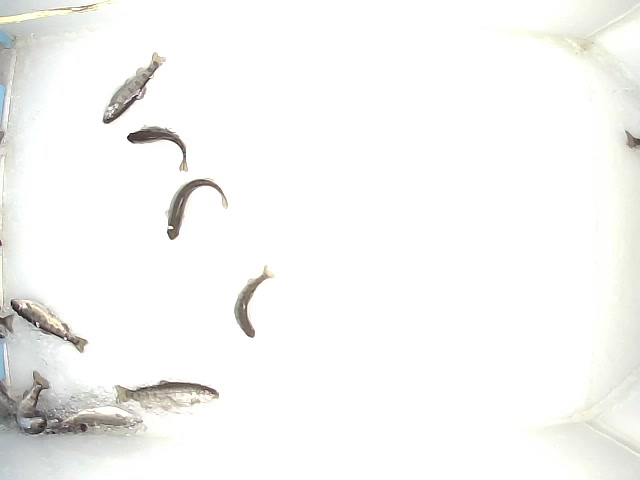fish: (101, 49, 169, 125), (8, 297, 89, 355), (163, 176, 231, 244), (114, 380, 223, 413), (232, 262, 277, 338), (124, 122, 190, 173), (50, 401, 143, 434), (14, 368, 54, 435)
